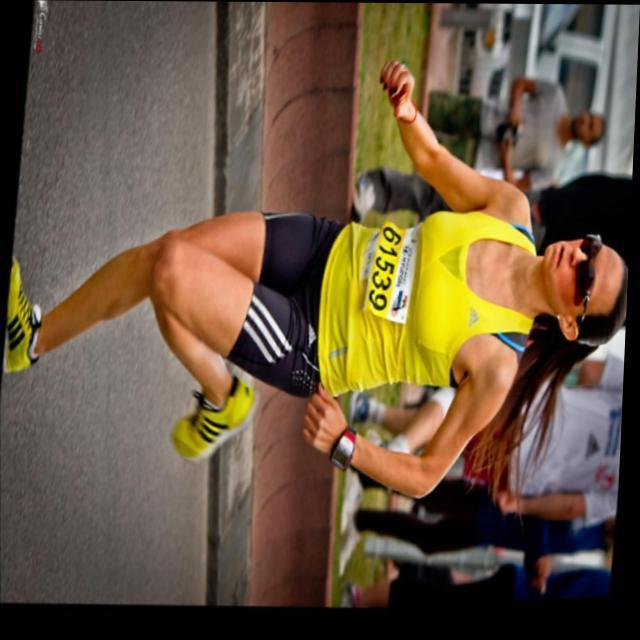dorsal: (352, 212, 431, 339)
